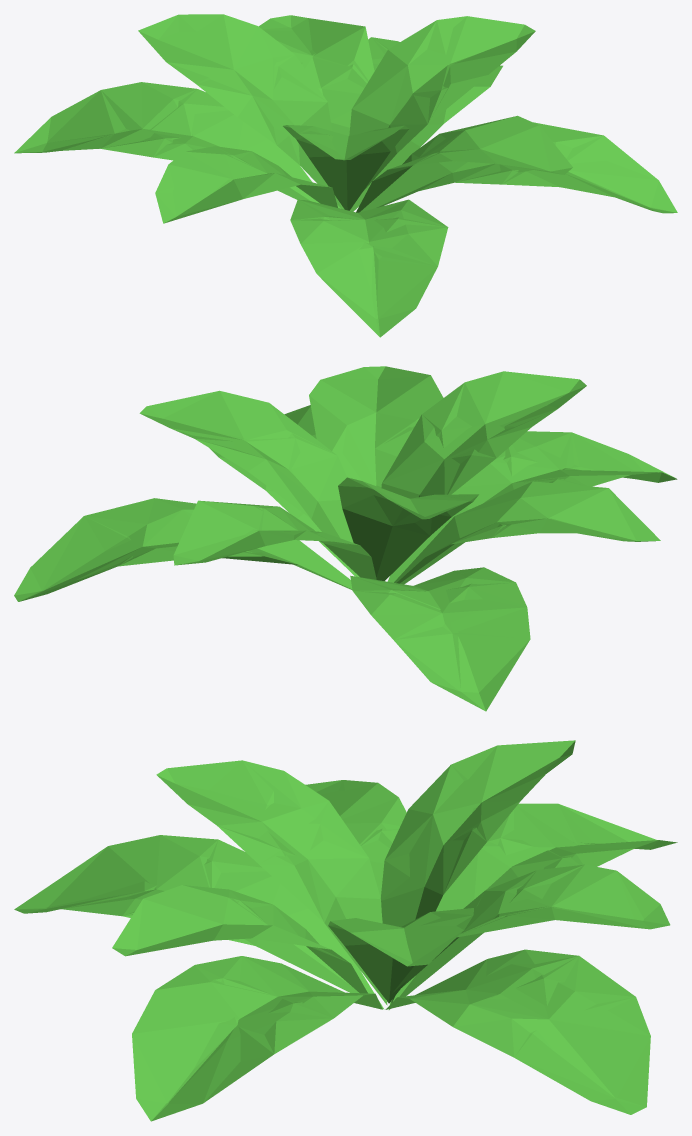
The model's file is Plant03.fbx.
The picture shows the model from 3 angles, top to bottom: view 1: azimuth 30°, elevation 25°; view 2: azimuth 150°, elevation 25°; view 3: azimuth 270°, elevation 25°; orthographic projection. The views are drawn at different scales.
Visible parts, largest first — view 1: Plant_03; view 2: Plant_03; view 3: Plant_03.
Part boxes in pixels (x1,y1,x2,y2): Plant_03: (14,14,677,337); Plant_03: (14,366,677,711); Plant_03: (14,740,677,1121).
Size of the model in its own units: 93.8 by 33.62 by 98.21.
